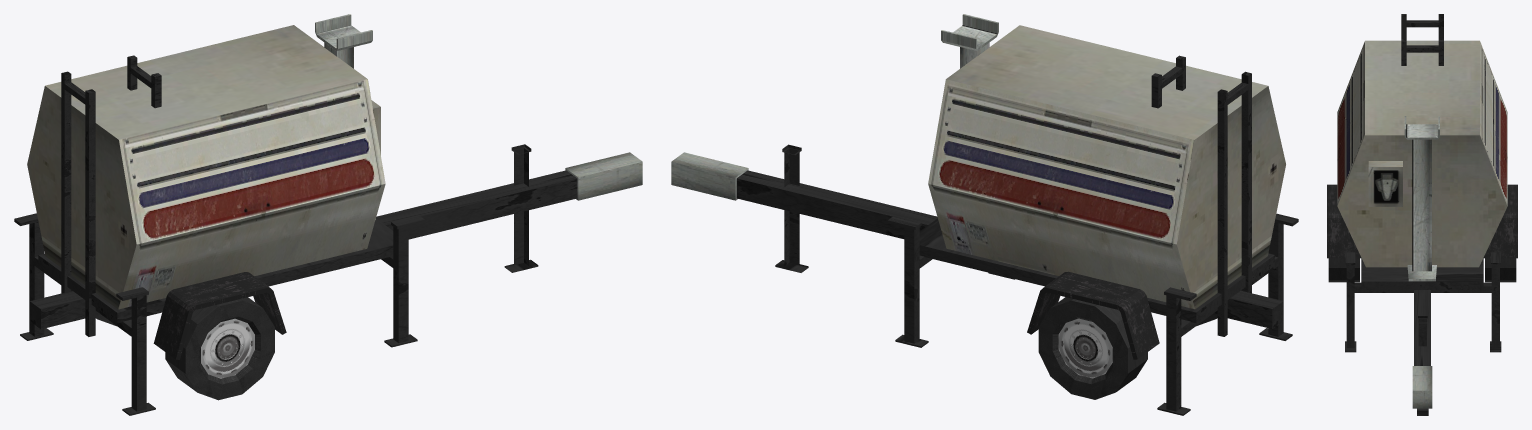
File: generador_rex.fbx
3 views of the same model, side by side, from view 1: azimuth 30°, elevation 25°; view 2: azimuth 150°, elevation 25°; view 3: azimuth 270°, elevation 25° (orthographic). The views are drawn at different scales.
Visible parts, largest first — view 1: Cylinder, Cube.006, Cylinder.001, Cube.004, Cylinder.002, Cube.009, Cube.001, Cube.003; view 2: Cylinder, Cube.006, Cylinder.001, Cube.004, Cylinder.002, Cube.009, Cube.001, Cube.003; view 3: Cylinder, Cube.006, Cube.001, Cylinder.002, Cube, Cylinder.001, Cube.009, Cube.003, Cube.004.
Part boxes in pixels (x1,y1,x2,y2): Cylinder: (27, 25, 385, 309); Cube.006: (14, 144, 577, 415); Cylinder.001: (95, 297, 274, 400); Cube.004: (61, 71, 95, 336); Cylinder.002: (153, 272, 286, 359); Cube.009: (565, 152, 642, 200); Cube.001: (315, 14, 375, 219); Cube.003: (127, 55, 161, 108); Cylinder: (928, 25, 1285, 309); Cube.006: (736, 144, 1298, 415); Cylinder.001: (1038, 297, 1217, 399); Cube.004: (1217, 71, 1251, 336); Cylinder.002: (1027, 271, 1159, 359); Cube.009: (671, 152, 748, 200); Cube.001: (941, 14, 998, 68); Cube.003: (1151, 55, 1185, 108); Cylinder: (1337, 40, 1507, 267); Cube.006: (1345, 252, 1501, 415); Cube.001: (1404, 116, 1439, 281); Cylinder.002: (1327, 184, 1517, 258); Cube: (1368, 161, 1402, 206); Cylinder.001: (1328, 258, 1516, 282); Cube.009: (1412, 366, 1432, 408); Cube.003: (1401, 39, 1443, 65); Cube.004: (1401, 14, 1443, 38).
Size of the model in its own units: 679 by 316 by 240.
Materials: 7 (7 with a texture image).
